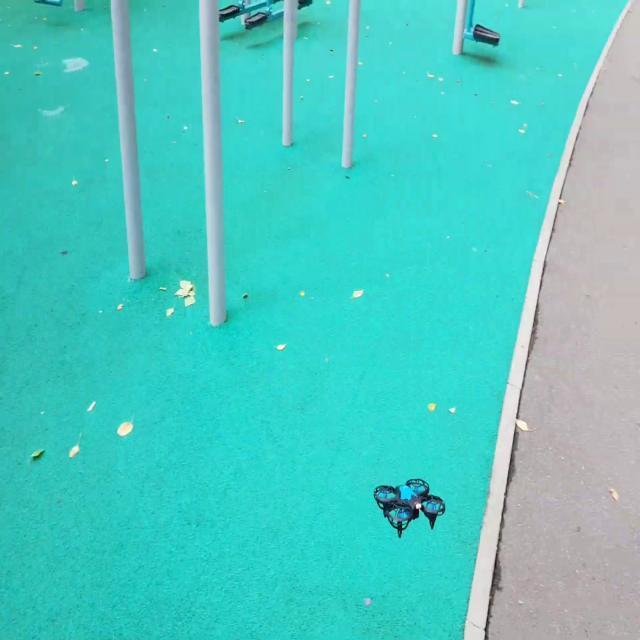Drons: (368, 476, 452, 542)
